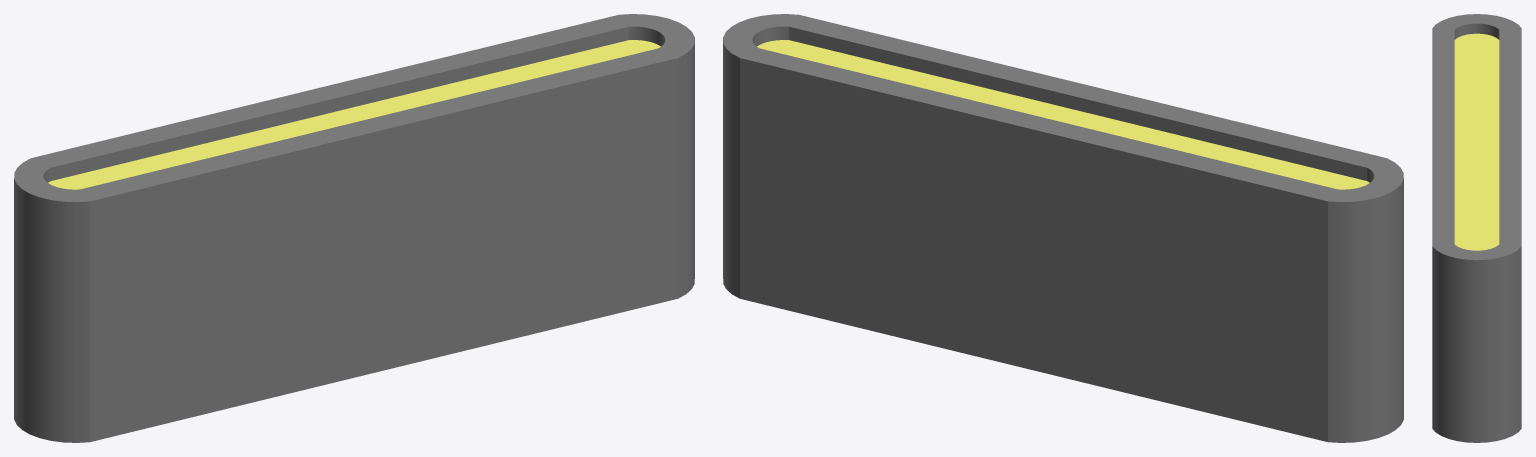
The model's file is wall_light_slim.glb.
3 views of the same model, side by side, from view 1: azimuth 30°, elevation 25°; view 2: azimuth 150°, elevation 25°; view 3: azimuth 270°, elevation 25° (orthographic). The views are drawn at different scales.
Parts seen in each view (by area): view 1: Geom3D (×2); view 2: Geom3D (×2); view 3: Geom3D (×2).
Part boxes in pixels (x1,y1,x2,y2): Geom3D (×2): (14,14,694,442); Geom3D (×2): (723,14,1403,442); Geom3D (×2): (1432,14,1521,442).
Size of the model in its own units: 0.26 by 0.09 by 0.04.
